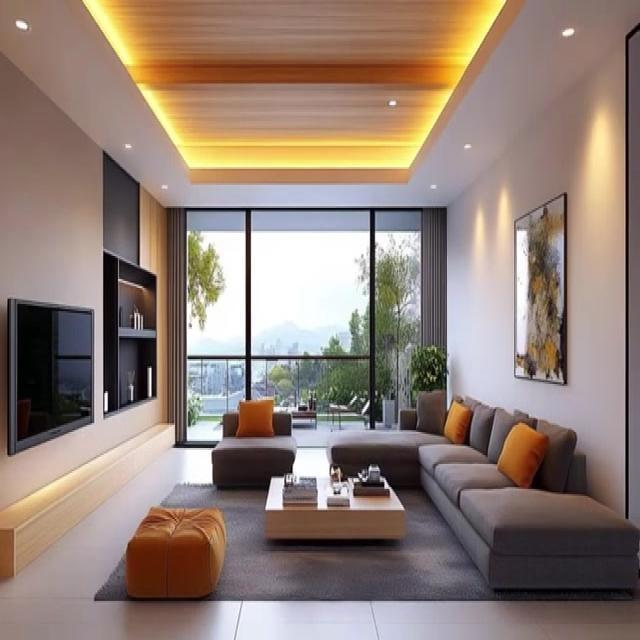obstacle: (326, 388, 639, 596), (263, 472, 405, 542), (103, 247, 157, 418), (211, 406, 297, 488)
